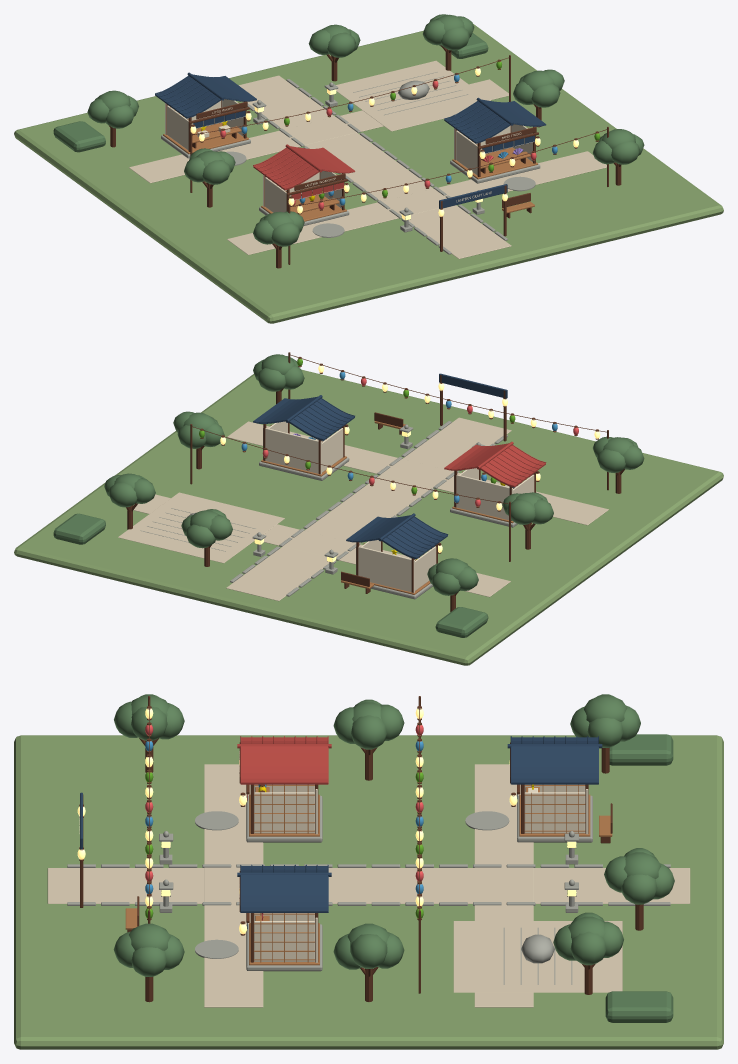
The model's file is yatai-craft.glb.
3 views of the same model, one above another, from view 1: azimuth 30°, elevation 25°; view 2: azimuth 150°, elevation 25°; view 3: azimuth 270°, elevation 25° (orthographic). The views are drawn at different scales.
Visible parts, largest first — view 1: craft_District moss.001, craft_District path.001, craft_District leaf.001, craft_District indigo.001, craft_District cedar.001, craft_District stone.001, craft_District paper.001, craft_District timber.001, craft_District red.001, craft_District gold.001; view 2: craft_District moss.001, craft_District path.001, craft_District leaf.001, craft_District paper.001, craft_District indigo.001, craft_District cedar.001, craft_District stone.001, craft_District red.001, craft_District timber.001, craft_District gold.001; view 3: craft_District moss.001, craft_District path.001, craft_District leaf.001, craft_District stone.001, craft_District paper.001, craft_District indigo.001, craft_District timber.001, craft_District cedar.001, craft_District red.001, craft_District gold.001.
Part boxes in pixels (<box>): craft_District moss.001: <box>14,24,723,323</box>; craft_District path.001: <box>129,60,606,258</box>; craft_District leaf.001: <box>53,14,644,246</box>; craft_District indigo.001: <box>155,72,546,208</box>; craft_District cedar.001: <box>109,45,621,268</box>; craft_District stone.001: <box>161,72,540,254</box>; craft_District paper.001: <box>165,99,534,212</box>; craft_District timber.001: <box>163,61,598,221</box>; craft_District red.001: <box>253,144,355,200</box>; craft_District gold.001: <box>190,68,578,220</box>; craft_District moss.001: <box>14,369,723,665</box>; craft_District path.001: <box>118,417,608,601</box>; craft_District leaf.001: <box>53,354,644,637</box>; craft_District paper.001: <box>263,421,534,592</box>; craft_District indigo.001: <box>253,373,507,559</box>; craft_District cedar.001: <box>126,352,624,611</box>; craft_District stone.001: <box>140,421,518,599</box>; craft_District red.001: <box>444,441,546,487</box>; craft_District timber.001: <box>200,358,598,594</box>; craft_District gold.001: <box>220,365,600,562</box>; craft_District moss.001: <box>14,735,723,1049</box>; craft_District path.001: <box>47,764,690,1007</box>; craft_District leaf.001: <box>113,694,674,1022</box>; craft_District stone.001: <box>67,795,670,984</box>; craft_District paper.001: <box>79,751,588,962</box>; craft_District indigo.001: <box>80,736,602,928</box>; craft_District timber.001: <box>79,708,612,965</box>; craft_District cedar.001: <box>79,696,643,1002</box>; craft_District red.001: <box>237,736,331,800</box>; craft_District gold.001: <box>77,708,576,933</box>.
Size of the model in its own units: 43 by 6.23 by 42.
